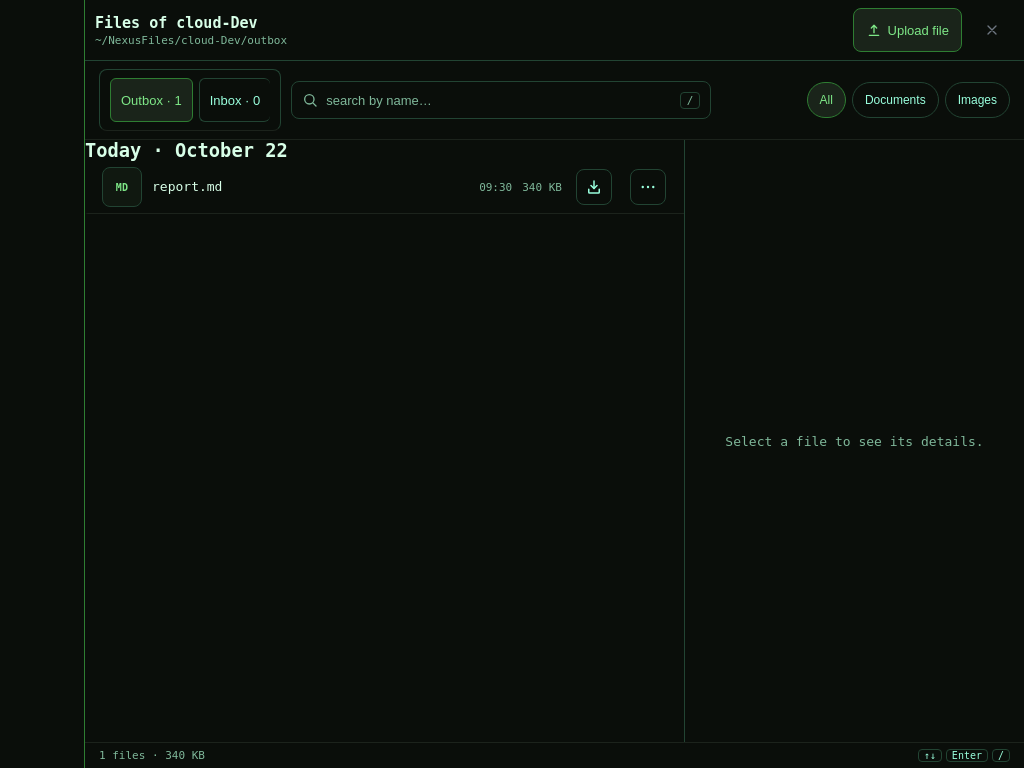
Test: FilesPanel desktop — filtri a pillola › filtro senza corrispondenze: messaggio esplicito con l'etichetta della pillola
Step 1. Click the button "Images" → (977, 100), box x1=945 y1=82 x2=1010 y2=118
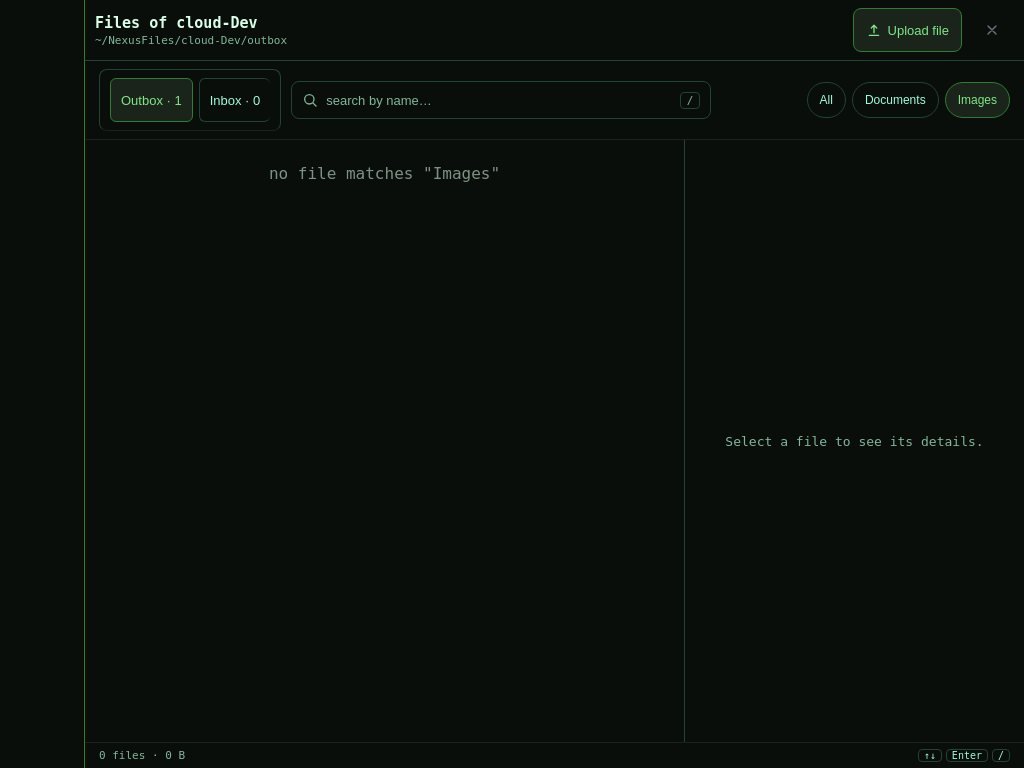
Now the text "no file matches \"Images\"" is shown, box x1=269 y1=164 x2=500 y2=183
Now the row "MD report.md 09:30 340 KB" is gone
